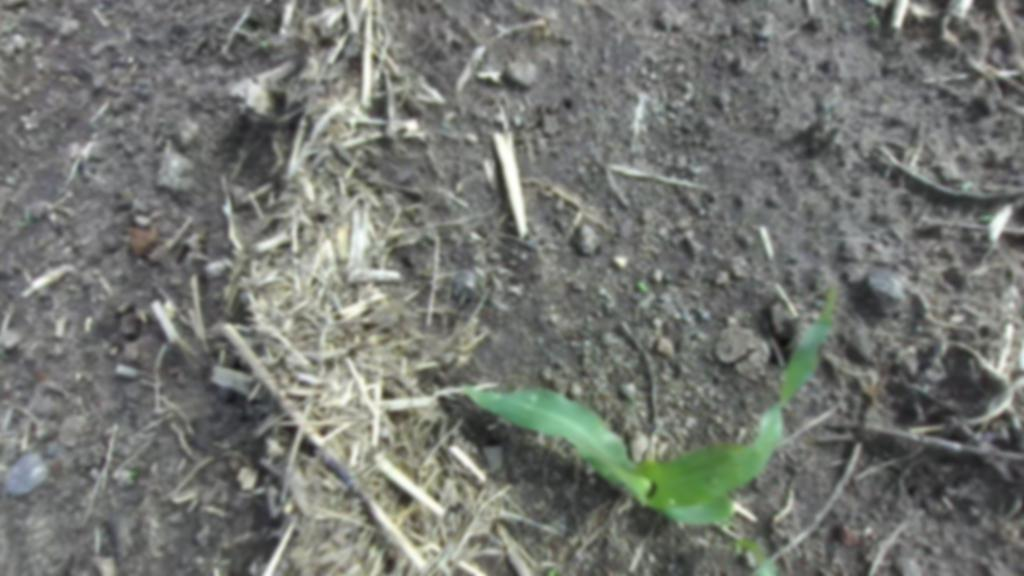BroWeed: (14, 207, 37, 230), (868, 11, 880, 27), (636, 280, 649, 294), (0, 175, 16, 186), (960, 180, 974, 191), (258, 38, 268, 49), (726, 521, 738, 530), (978, 215, 993, 222), (548, 566, 558, 576), (734, 543, 742, 554), (127, 471, 137, 478)
Maize: (458, 271, 894, 576)
